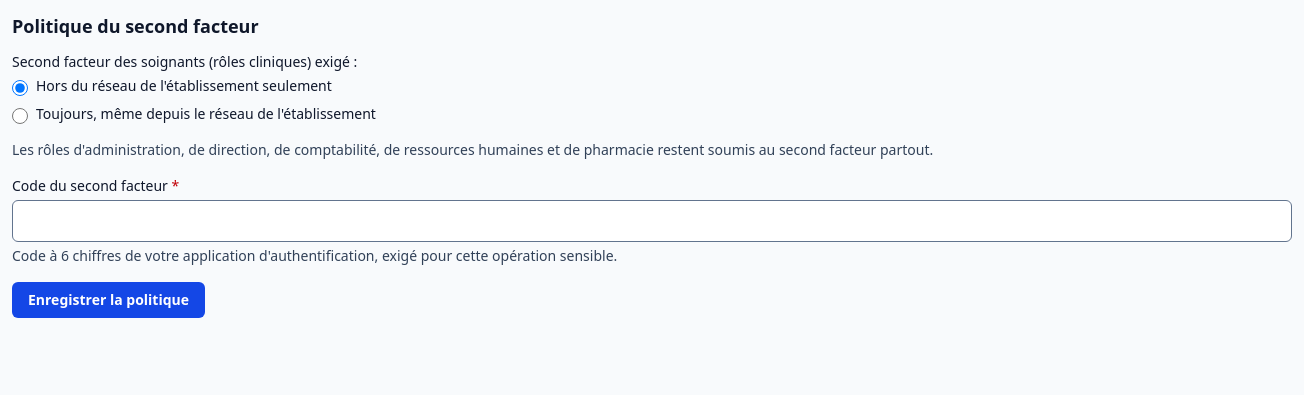
Test: SecurityPolicyForm › enregistre le mode choisi
Click the radio button labelled "Toujours, même depuis le réseau de l'établissement" at coordinates (20, 116), box [12, 108, 28, 124]
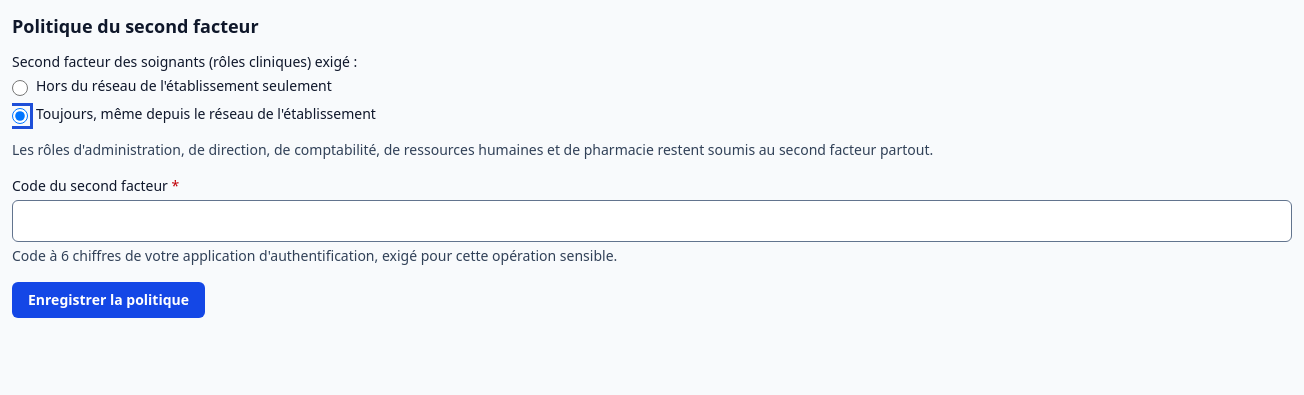
Click the button "Enregistrer la politique" at coordinates (108, 300), box [12, 282, 205, 318]
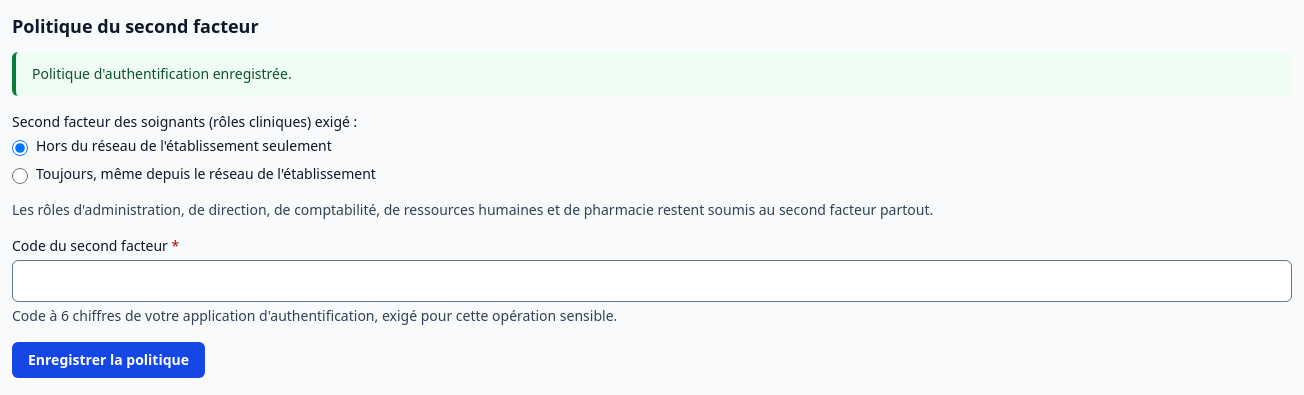
expect the message shows "enregistrée": met, box [32, 64, 292, 83]
